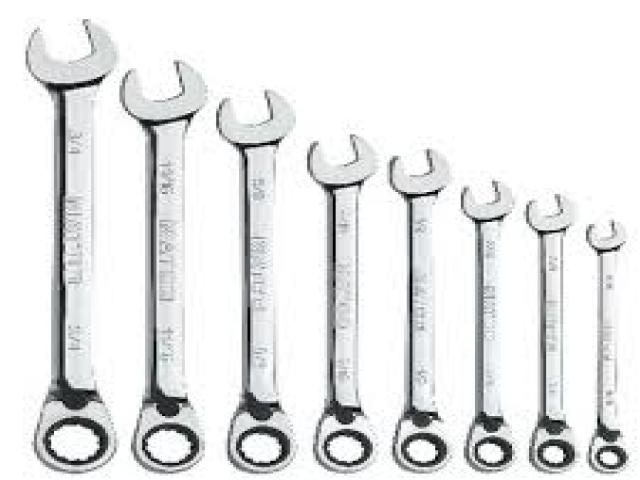Wrench: (26, 20, 116, 472), (121, 61, 206, 472), (216, 90, 295, 472), (308, 135, 376, 472), (390, 149, 450, 471), (461, 181, 514, 470), (526, 195, 575, 471), (586, 220, 628, 472)
